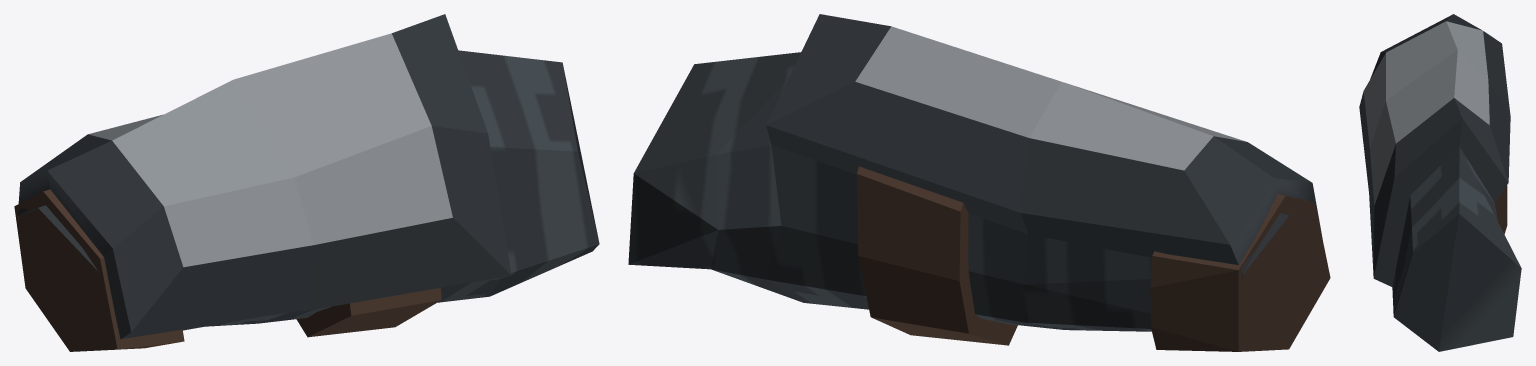
The model's file is Chr_ArmLowerRight_Female_04_Static.fbx.
3 views of the same model, side by side, from view 1: azimuth 30°, elevation 25°; view 2: azimuth 150°, elevation 25°; view 3: azimuth 270°, elevation 25° (orthographic). The views are drawn at different scales.
Visible parts, largest first — view 1: Chr_ArmLowerRight_Female_04_Static; view 2: Chr_ArmLowerRight_Female_04_Static; view 3: Chr_ArmLowerRight_Female_04_Static.
Part boxes in pixels (left/top/right/bottom): Chr_ArmLowerRight_Female_04_Static: left=14, top=14, right=599, bottom=351; Chr_ArmLowerRight_Female_04_Static: left=628, top=14, right=1330, bottom=351; Chr_ArmLowerRight_Female_04_Static: left=1359, top=14, right=1521, bottom=351.
Size of the model in its own units: 0.2944 by 0.1452 by 0.103.
